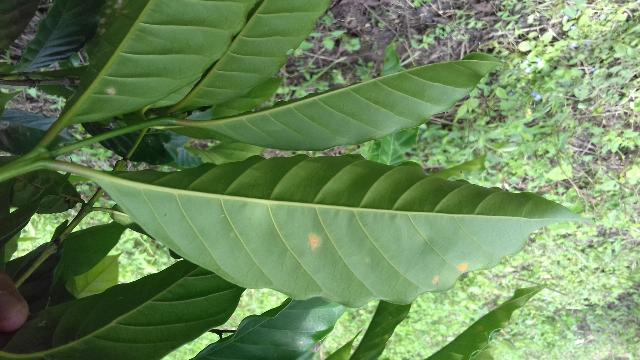rust_level_1: (101, 157, 594, 306)
